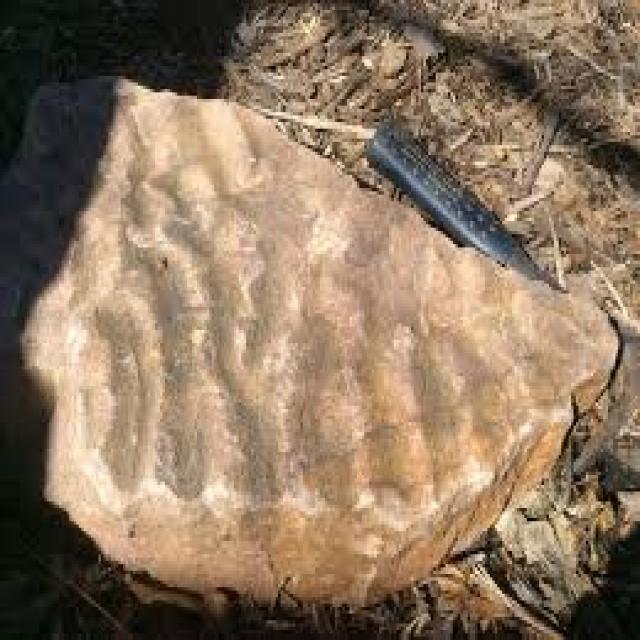Metamorphic: (10, 86, 618, 604)
